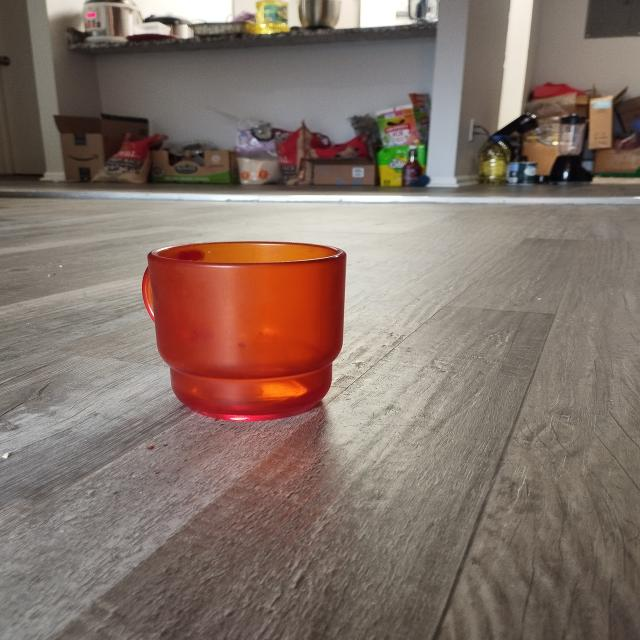Cup: (105, 219, 409, 438)
